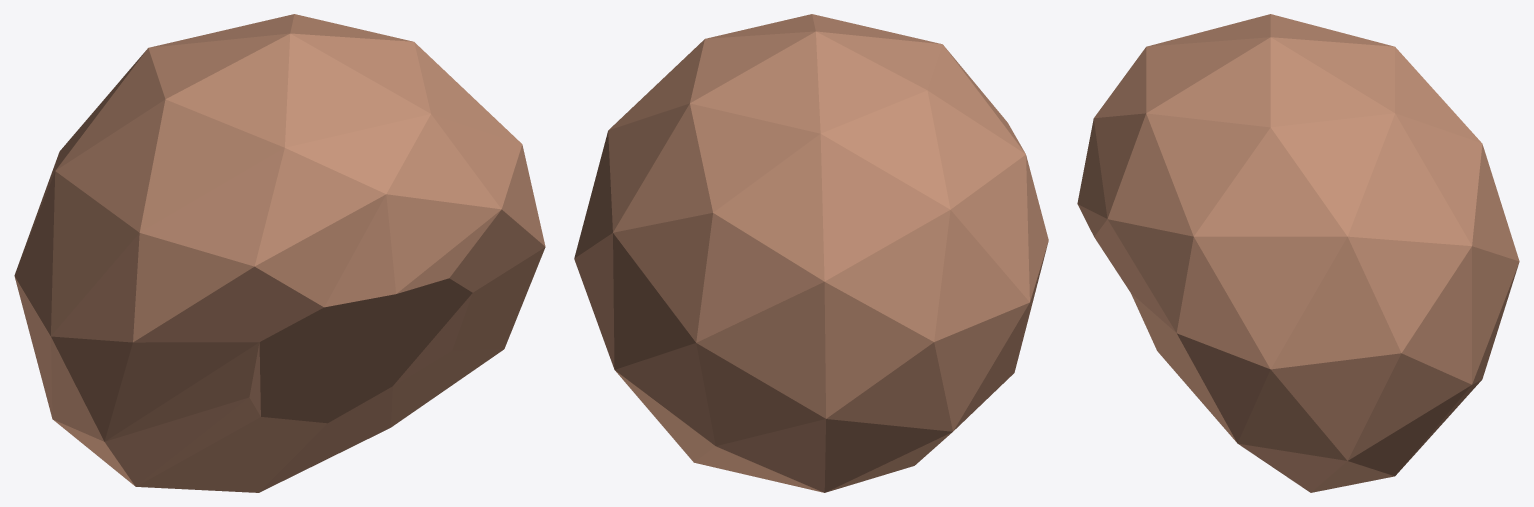
Rendered from Beachgoer_M_Hair_C.fbx.
3 views of the same model, side by side, from view 1: azimuth 30°, elevation 25°; view 2: azimuth 150°, elevation 25°; view 3: azimuth 270°, elevation 25° (orthographic). The views are drawn at different scales.
Parts seen in each view (by area): view 1: Beachgoer_M_Hair_C; view 2: Beachgoer_M_Hair_C; view 3: Beachgoer_M_Hair_C.
Boxes of the visible parts, x1,y1,x2,y2 form: Beachgoer_M_Hair_C: (14,14,545,492); Beachgoer_M_Hair_C: (574,14,1048,492); Beachgoer_M_Hair_C: (1077,14,1519,492).
Size of the model in its own units: 28.31 by 27.28 by 25.14.
